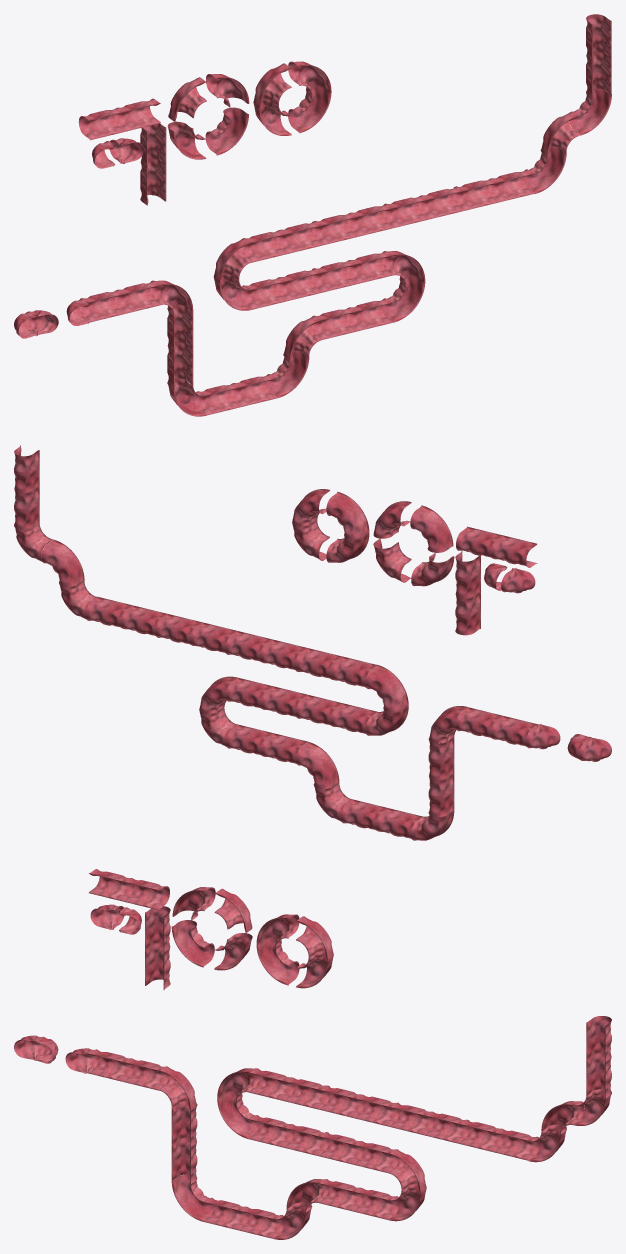
File: Corner part test 04.FBX
3 views of the same model, one above another, from view 1: azimuth 30°, elevation 25°; view 2: azimuth 150°, elevation 25°; view 3: azimuth 330°, elevation 25° (orthographic).
Visible parts, largest first — view 1: ThroatEnvironment019, ThroatEnvironment006, ThroatEnvironment002, ThroatEnvironment033, ThroatEnvironment012, ThroatEnvironment015, ThroatEnvironment008, ThroatEnvironment023, ThroatEnvironment029, ThroatEnvironment022, ThroatEnvironment028, ThroatEnvironment011 (+19 smaller); view 2: ThroatEnvironment020, ThroatEnvironment024, ThroatEnvironment006, ThroatEnvironment015, ThroatEnvironment033, ThroatEnvironment012, ThroatEnvironment011, ThroatEnvironment01, ThroatEnvironment008, ThroatEnvironment022, ThroatEnvironment028, ThroatEnvironment027 (+20 smaller); view 3: ThroatEnvironment020, ThroatEnvironment024, ThroatEnvironment006, ThroatEnvironment012, ThroatEnvironment033, ThroatEnvironment015, ThroatEnvironment011, ThroatEnvironment029, ThroatEnvironment008, ThroatEnvironment027, ThroatEnvironment01, ThroatEnvironment028 (+20 smaller).
Boxes of the visible parts, x1=… form: ThroatEnvironment019: x1=288, y1=61, x2=331, y2=133; ThroatEnvironment006: x1=167, y1=304, x2=193, y2=389; ThroatEnvironment002: x1=382, y1=251, x2=425, y2=322; ThroatEnvironment033: x1=586, y1=14, x2=611, y2=99; ThroatEnvironment012: x1=78, y1=98, x2=160, y2=140; ThroatEnvironment015: x1=140, y1=123, x2=166, y2=205; ThroatEnvironment008: x1=195, y1=374, x2=277, y2=415; ThroatEnvironment023: x1=240, y1=268, x2=322, y2=309; ThroatEnvironment029: x1=452, y1=169, x2=534, y2=210; ThroatEnvironment022: x1=311, y1=251, x2=392, y2=292; ThroatEnvironment028: x1=382, y1=186, x2=463, y2=227; ThroatEnvironment011: x1=311, y1=298, x2=392, y2=339; ThroatEnvironment020: x1=326, y1=491, x2=369, y2=562; ThroatEnvironment024: x1=365, y1=665, x2=408, y2=735; ThroatEnvironment006: x1=428, y1=737, x2=454, y2=816; ThroatEnvironment015: x1=455, y1=551, x2=480, y2=635; ThroatEnvironment033: x1=14, y1=445, x2=39, y2=529; ThroatEnvironment012: x1=456, y1=526, x2=537, y2=567; ThroatEnvironment011: x1=226, y1=724, x2=307, y2=765; ThroatEnvironment01: x1=456, y1=707, x2=537, y2=748; ThroatEnvironment008: x1=341, y1=799, x2=422, y2=839; ThroatEnvironment022: x1=226, y1=677, x2=307, y2=718; ThroatEnvironment028: x1=155, y1=613, x2=236, y2=654; ThroatEnvironment027: x1=225, y1=631, x2=306, y2=670; ThroatEnvironment020: x1=256, y1=914, x2=299, y2=985; ThroatEnvironment024: x1=217, y1=1068, x2=260, y2=1139; ThroatEnvironment006: x1=171, y1=1100, x2=197, y2=1184; ThroatEnvironment012: x1=89, y1=869, x2=169, y2=910; ThroatEnvironment033: x1=586, y1=1016, x2=611, y2=1099; ThroatEnvironment015: x1=145, y1=906, x2=170, y2=989; ThroatEnvironment011: x1=318, y1=1179, x2=399, y2=1219; ThroatEnvironment029: x1=459, y1=1119, x2=540, y2=1160; ThroatEnvironment008: x1=203, y1=1197, x2=284, y2=1238; ThroatEnvironment027: x1=319, y1=1085, x2=400, y2=1126; ThroatEnvironment01: x1=89, y1=1049, x2=169, y2=1090; ThroatEnvironment028: x1=389, y1=1102, x2=470, y2=1143.
Bounding box in the file's own units: 3022 × 1624 × 116.
